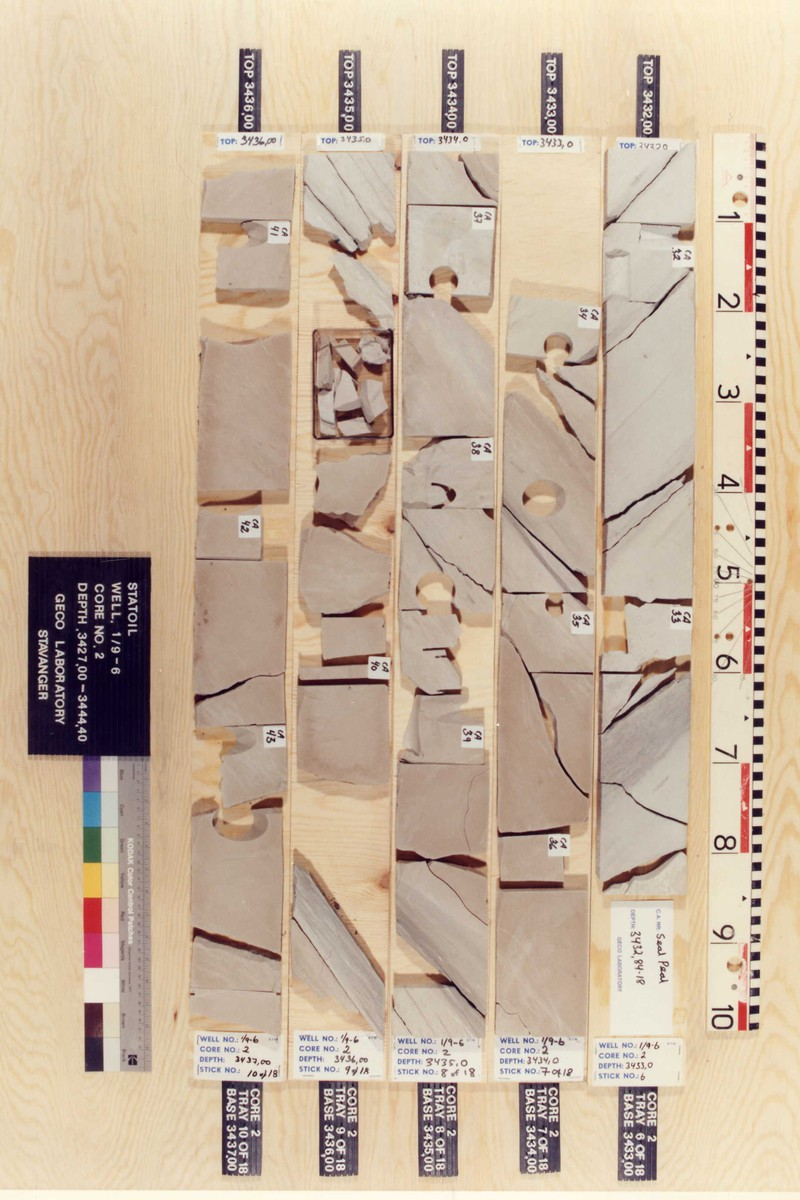core: (397, 150, 495, 1037), (193, 164, 288, 1031), (498, 293, 597, 1036), (599, 153, 697, 898), (291, 152, 393, 795), (292, 859, 384, 1035)
